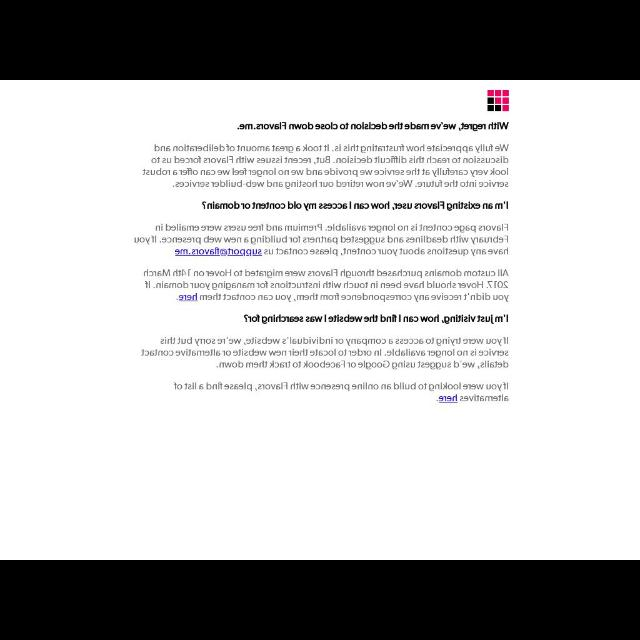image: (486, 90, 509, 112)
link: (174, 248, 262, 258), (178, 292, 198, 302), (438, 394, 458, 404)
text: (142, 143, 510, 191), (132, 222, 510, 258), (140, 336, 510, 370), (142, 268, 510, 302), (172, 382, 510, 403), (244, 312, 510, 326), (200, 200, 510, 212), (234, 120, 512, 132)
